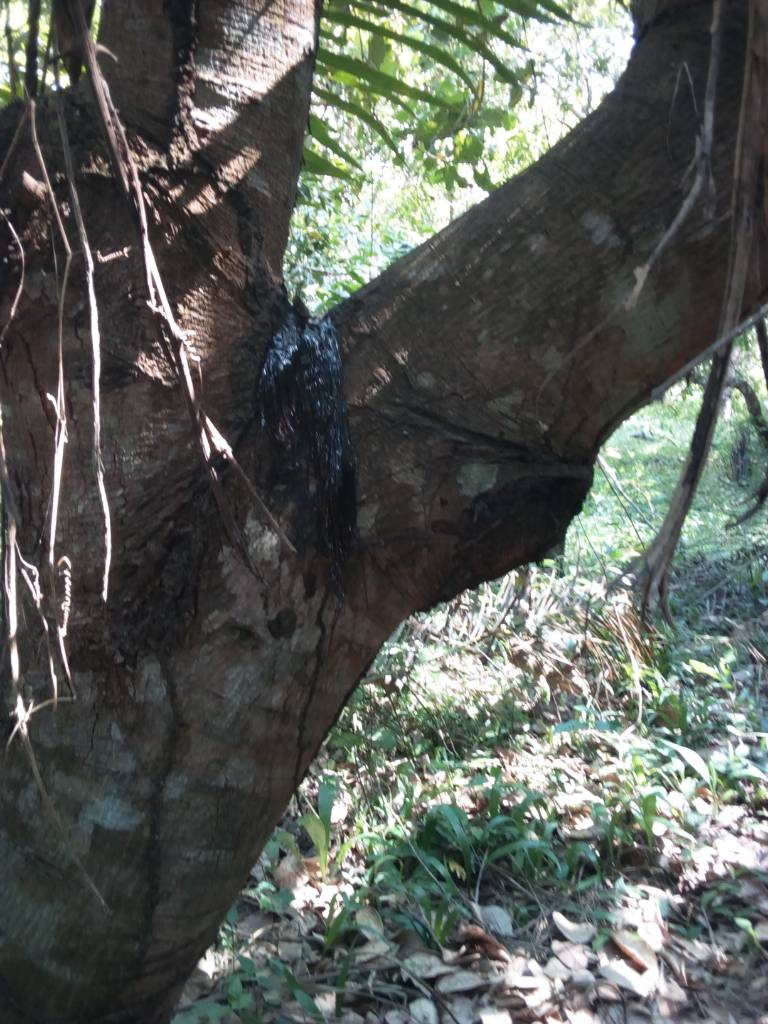Gommose: (249, 307, 365, 575)
